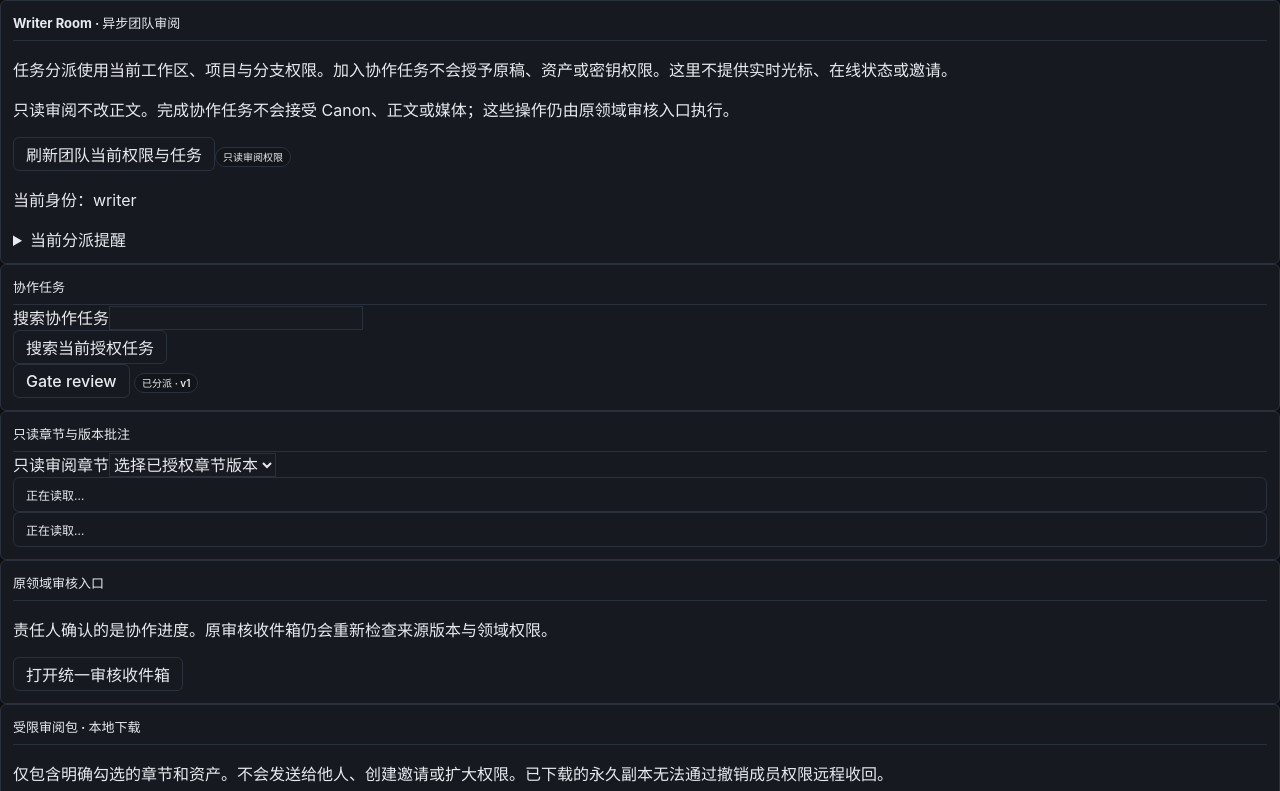
Test: read-only role can read a selected chapter but cannot create tasks or comments
Expected: the text "只读审阅权限" is shown, x1=215 y1=146 x2=291 y2=166
Select "Gate chapter · v1" in the dropdown labelled "只读审阅章节" at (192, 465), box x1=109 y1=453 x2=276 y2=477
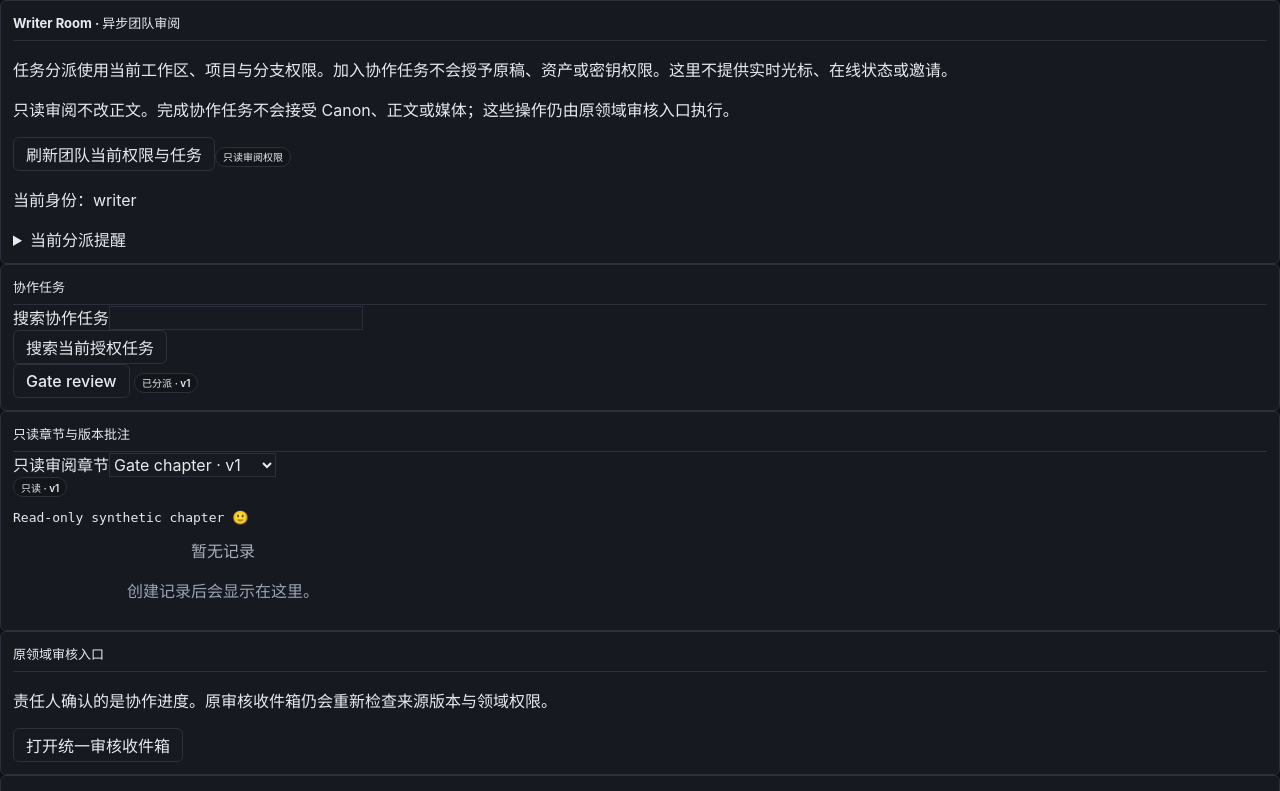
Now the text "Read-only synthetic chapter 🙂" is shown, box x1=13 y1=510 x2=248 y2=525
